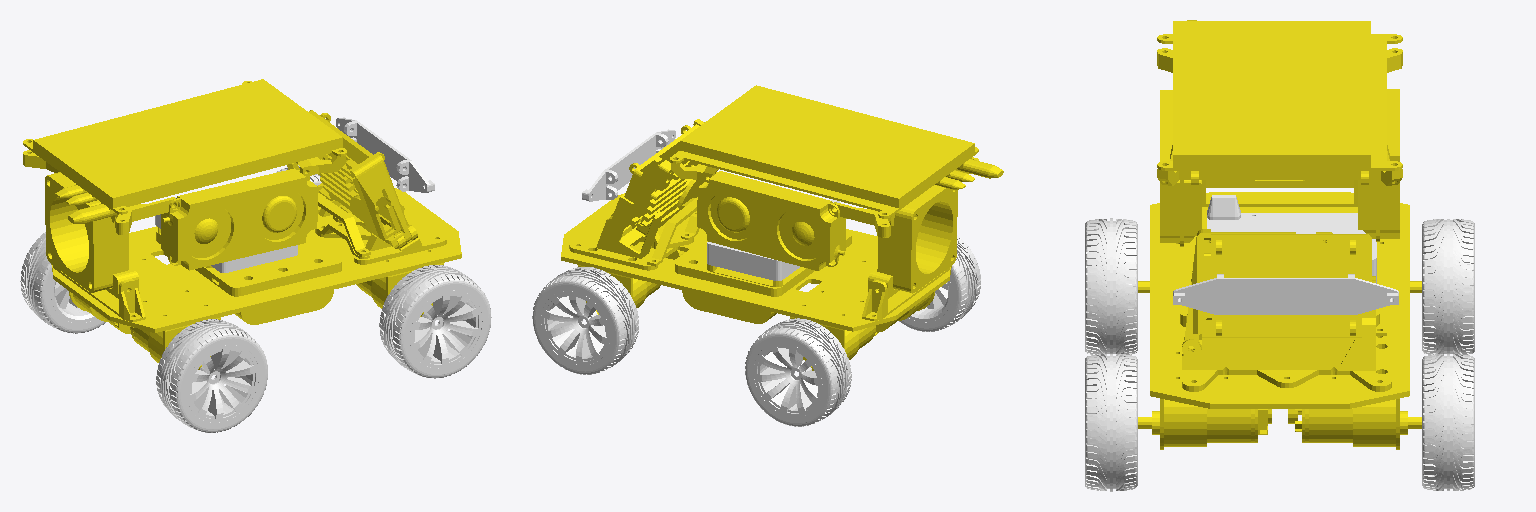
URDF robot description (mycar_f):
<?xml version="1.0" encoding="utf-8"?>
<!-- This URDF was automatically created by SolidWorks to URDF Exporter! Originally created by Stephen Brawner (brawner@gmail.com) 
     Commit Version: 1.6.0-4-g7f85cfe  Build Version: 1.6.7995.38578
     For more information, please see http://wiki.ros.org/sw_urdf_exporter -->
<robot
  name="mycar_f">
  <!-- base_footprint: 地面投影参考系，Nav2/导航必需 -->
  <link name="base_footprint"/>
  <joint name="base_footprint_joint" type="fixed">
    <origin xyz="0 0 0.066" rpy="0 0 0"/>
    <parent link="base_footprint"/>
    <child link="base_link"/>
  </joint>
  <link
    name="base_link">
    <inertial>
      <origin
        xyz="-0.021287034327229 -0.000459393616553533 0.0268665416203777"
        rpy="0 0 0" />
      <mass
        value="0.794048324498282" />
      <inertia
        ixx="0.000500345047312004"
        ixy="-9.71787774585254E-06"
        ixz="-7.76743070609034E-06"
        iyy="0.00106866210986134"
        iyz="1.31832103465237E-07"
        izz="0.0014266502647222" />
    </inertial>
    <visual>
      <origin
        xyz="0 0 0"
        rpy="0 0 0" />
      <geometry>
        <mesh
          filename="package://mycar_f/meshes/base_link.STL" />
      </geometry>
      <material
        name="">
        <color
          rgba="1 0.937254901960784 0.137254901960784 1" />
      </material>
    </visual>
    <collision>
      <origin
        xyz="0 0 0"
        rpy="0 0 0" />
      <geometry>
        <mesh
          filename="package://mycar_f/meshes/base_link.STL" />
      </geometry>
    </collision>
  </link>
  <link
    name="fl_Link">
    <inertial>
      <origin
        xyz="-9.57077664343053E-09 -0.00156153692384933 7.75982818071452E-08"
        rpy="0 0 0" />
      <mass
        value="0.0602360435541665" />
      <inertia
        ixx="2.53242937942621E-05"
        ixy="1.22610066007238E-12"
        ixz="6.53429634770204E-09"
        iyy="4.43444324003584E-05"
        iyz="1.15989031559013E-11"
        izz="2.53152024087449E-05" />
    </inertial>
    <visual>
      <origin
        xyz="0 0 0"
        rpy="0 0 0" />
      <geometry>
        <mesh
          filename="package://mycar_f/meshes/fl_Link.STL" />
      </geometry>
      <material
        name="">
        <color
          rgba="1 1 1 1" />
      </material>
    </visual>
    <collision>
      <origin
        xyz="0 0 0"
        rpy="0 0 0" />
      <geometry>
        <mesh
          filename="package://mycar_f/meshes/fl_Link.STL" />
      </geometry>
    </collision>
  </link>
  <joint
    name="fl_joint"
    type="continuous">
    <origin
      xyz="0.0798194347596028 0.0869188013040223 -0.0315000000000085"
      rpy="0 0 0" />
    <parent
      link="base_link" />
    <child
      link="fl_Link" />
    <axis
      xyz="0 1 0" />
  </joint>
  <link
    name="fr_Link">
    <inertial>
      <origin
        xyz="2.88510850626755E-08 0.00156153690159229 -6.92092243029241E-08"
        rpy="0 0 0" />
      <mass
        value="0.0602360431220676" />
      <inertia
        ixx="2.53280674316329E-05"
        ixy="7.08137795150446E-11"
        ixz="8.4782191987224E-10"
        iyy="4.43431918315865E-05"
        iyz="3.53046428172515E-11"
        izz="2.53100643030645E-05" />
    </inertial>
    <visual>
      <origin
        xyz="0 0 0"
        rpy="0 0 0" />
      <geometry>
        <mesh
          filename="package://mycar_f/meshes/fr_Link.STL" />
      </geometry>
      <material
        name="">
        <color
          rgba="1 1 1 1" />
      </material>
    </visual>
    <collision>
      <origin
        xyz="0 0 0"
        rpy="0 0 0" />
      <geometry>
        <mesh
          filename="package://mycar_f/meshes/fr_Link.STL" />
      </geometry>
    </collision>
  </link>
  <joint
    name="fr_joint"
    type="continuous">
    <origin
      xyz="0.0798194347596027 -0.0862811986959776 -0.0315000000000083"
      rpy="0 0 0" />
    <parent
      link="base_link" />
    <child
      link="fr_Link" />
    <axis
      xyz="0 1 0" />
  </joint>
  <link
    name="br_Link">
    <inertial>
      <origin
        xyz="-6.04187070096796E-08 0.00156153689670808 4.44043245714787E-08"
        rpy="0 0 0" />
      <mass
        value="0.0602360431222151" />
      <inertia
        ixx="2.53225260329944E-05"
        ixy="-4.24482918525899E-11"
        ixz="8.35309615853201E-09"
        iyy="4.43431918316024E-05"
        iyz="-6.67772473183943E-11"
        izz="2.53156057017221E-05" />
    </inertial>
    <visual>
      <origin
        xyz="0 0 0"
        rpy="0 0 0" />
      <geometry>
        <mesh
          filename="package://mycar_f/meshes/br_Link.STL" />
      </geometry>
      <material
        name="">
        <color
          rgba="1 1 1 1" />
      </material>
    </visual>
    <collision>
      <origin
        xyz="0 0 0"
        rpy="0 0 0" />
      <geometry>
        <mesh
          filename="package://mycar_f/meshes/br_Link.STL" />
      </geometry>
    </collision>
  </link>
  <joint
    name="br_joint"
    type="continuous">
    <origin
      xyz="-0.0801805652407043 -0.0862811986962533 -0.0314999999999937"
      rpy="0 0 0" />
    <parent
      link="base_link" />
    <child
      link="br_Link" />
    <axis
      xyz="0 1 0" />
  </joint>
  <link
    name="bl_Link">
    <inertial>
      <origin
        xyz="-5.8451738949028E-08 -0.00156153690472458 -4.69702902058944E-08"
        rpy="0 0 0" />
      <mass
        value="0.0602360431222136" />
      <inertia
        ixx="2.53232334042162E-05"
        ixy="4.52892047873951E-11"
        ixz="-8.02362749678216E-09"
        iyy="4.43431918316008E-05"
        iyz="-6.48832864821719E-11"
        izz="2.53148983304986E-05" />
    </inertial>
    <visual>
      <origin
        xyz="0 0 0"
        rpy="0 0 0" />
      <geometry>
        <mesh
          filename="package://mycar_f/meshes/bl_Link.STL" />
      </geometry>
      <material
        name="">
        <color
          rgba="1 1 1 1" />
      </material>
    </visual>
    <collision>
      <origin
        xyz="0 0 0"
        rpy="0 0 0" />
      <geometry>
        <mesh
          filename="package://mycar_f/meshes/bl_Link.STL" />
      </geometry>
    </collision>
  </link>
  <joint
    name="bl_joint"
    type="continuous">
    <origin
      xyz="-0.0801805652407041 0.0869188013037466 -0.0314999999999934"
      rpy="0 0 0" />
    <parent
      link="base_link" />
    <child
      link="bl_Link" />
    <axis
      xyz="0 1 0" />
  </joint>
  <link
    name="imu_Link">
    <inertial>
      <origin
        xyz="-0.000362122873642002 -0.0230500268686498 0.00768491749214834"
        rpy="0 0 0" />
      <mass
        value="0.0722083122758556" />
      <inertia
        ixx="4.53945384646085E-05"
        ixy="-8.74659310552189E-07"
        ixz="3.08950355789817E-07"
        iyy="2.05702697479786E-05"
        iyz="4.46643442891381E-07"
        izz="6.2963092786608E-05" />
    </inertial>
    <visual>
      <origin
        xyz="0 0 0"
        rpy="0 0 0" />
      <geometry>
        <mesh
          filename="package://mycar_f/meshes/imu_Link.STL" />
      </geometry>
      <material
        name="">
        <color
          rgba="1 1 1 1" />
      </material>
    </visual>
    <collision>
      <origin
        xyz="0 0 0"
        rpy="0 0 0" />
      <geometry>
        <mesh
          filename="package://mycar_f/meshes/imu_Link.STL" />
      </geometry>
    </collision>
  </link>
  <joint
    name="imu_joint"
    type="fixed">
    <origin
      xyz="-0.0175158882827639 0.0288188013043405 0.011"
      rpy="0 0 0" />
    <parent
      link="base_link" />
    <child
      link="imu_Link" />
    <axis
      xyz="0 0 0" />
  </joint>
  <link
    name="camera_Link">
    <inertial>
      <origin
        xyz="-0.00148372597791281 0.0350000000000001 0"
        rpy="0 0 0" />
      <mass
        value="0.00469695869809621" />
      <inertia
        ixx="4.56412048936354E-06"
        ixy="-3.22362353408096E-22"
        ixz="2.29313560959624E-24"
        iyy="1.4925456782321E-07"
        iyz="1.31842691588969E-21"
        izz="4.43679632395854E-06" />
    </inertial>
    <visual>
      <origin
        xyz="0 0 0"
        rpy="0 0 0" />
      <geometry>
        <mesh
          filename="package://mycar_f/meshes/camera_Link.STL" />
      </geometry>
      <material
        name="">
        <color
          rgba="1 1 1 1" />
      </material>
    </visual>
    <collision>
      <origin
        xyz="0 0 0"
        rpy="0 0 0" />
      <geometry>
        <mesh
          filename="package://mycar_f/meshes/camera_Link.STL" />
      </geometry>
    </collision>
  </link>
  <joint
    name="camera_joint"
    type="fixed">
    <origin
      xyz="0.0936947862405823 -0.0316811986946451 0.0440937058350375"
      rpy="0 0 0" />
    <parent
      link="base_link" />
    <child
      link="camera_Link" />
    <axis
      xyz="0 0 0" />
  </joint>
</robot>

--- What the picture shows (computed from the rendered views, not written in the file) ---
The picture shows the robot from 3 angles, left to right: view 1: azimuth 30°, elevation 25°; view 2: azimuth 150°, elevation 25°; view 3: azimuth 270°, elevation 25°; orthographic projection.
Robot: mycar_f — 8 links, 7 joints (4 continuous, 3 fixed); root link base_footprint; default pose: all joints at 0.
Visible links, largest first — view 1: base_link, br_Link, fr_Link, bl_Link, camera_Link, imu_Link; view 2: base_link, fl_Link, bl_Link, br_Link, camera_Link, imu_Link; view 3: base_link, camera_Link, fr_Link, fl_Link, bl_Link, br_Link, imu_Link.
Boxes of the visible links, x1,y1,x2,y2 form: base_link: (23, 79, 461, 369); br_Link: (156, 319, 267, 432); fr_Link: (379, 265, 491, 378); bl_Link: (20, 232, 105, 333); camera_Link: (336, 117, 434, 192); imu_Link: (155, 187, 297, 272); base_link: (561, 85, 1003, 370); fl_Link: (532, 267, 638, 374); bl_Link: (745, 318, 851, 426); br_Link: (899, 235, 980, 331); camera_Link: (582, 129, 675, 201); imu_Link: (707, 199, 839, 280); base_link: (1138, 20, 1421, 449); camera_Link: (1173, 274, 1398, 314); fr_Link: (1085, 354, 1137, 491); fl_Link: (1422, 354, 1474, 490); bl_Link: (1422, 219, 1474, 354); br_Link: (1085, 218, 1137, 354); imu_Link: (1207, 195, 1376, 283).
Bounding box of the posed robot: 0.2832 × 0.1952 × 0.1596 m (x, y, z).
7 mesh visuals loaded from 7 distinct referenced files (7 binary STL).
